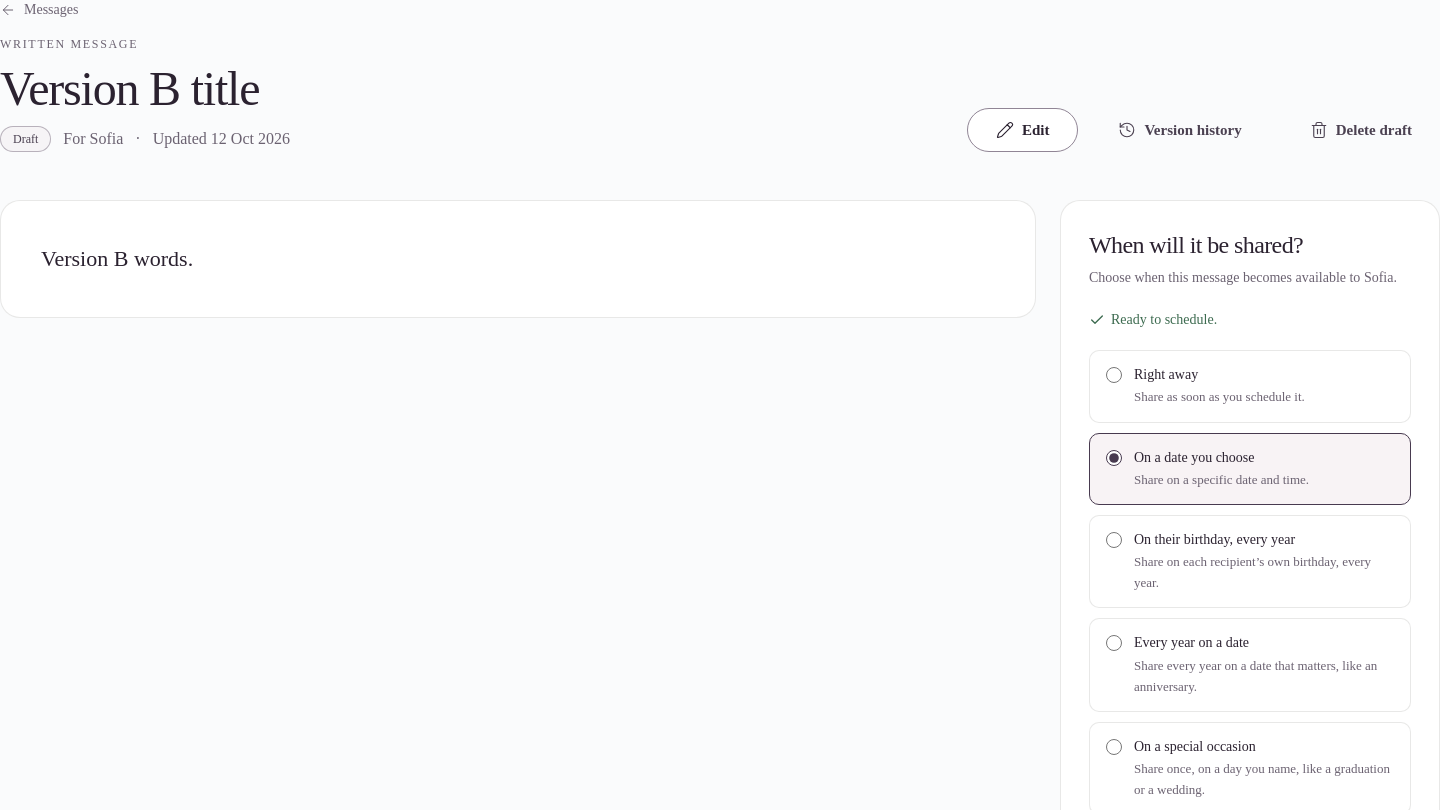
it: Version history › previews a version, restores it after confirming, and the replaced draft stays in history
This screenshot has width=1440, height=810.
Click the button "Version history".
click(1180, 130)  # box [1090,108,1270,152]
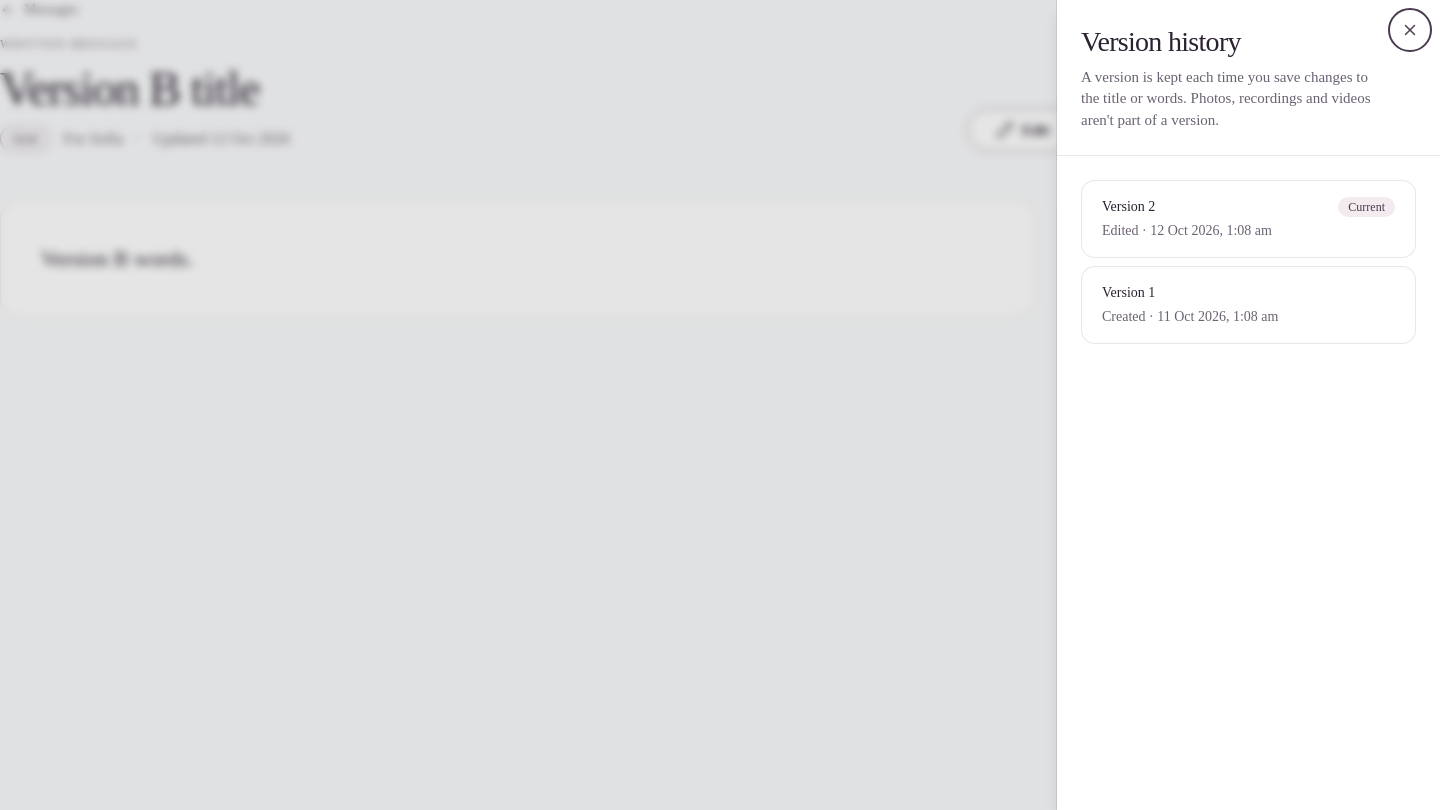
Click the button "Version 1 Created · 11 Oct 2026, 1:08 am".
click(1125, 293)  # box [1081,266,1416,344]
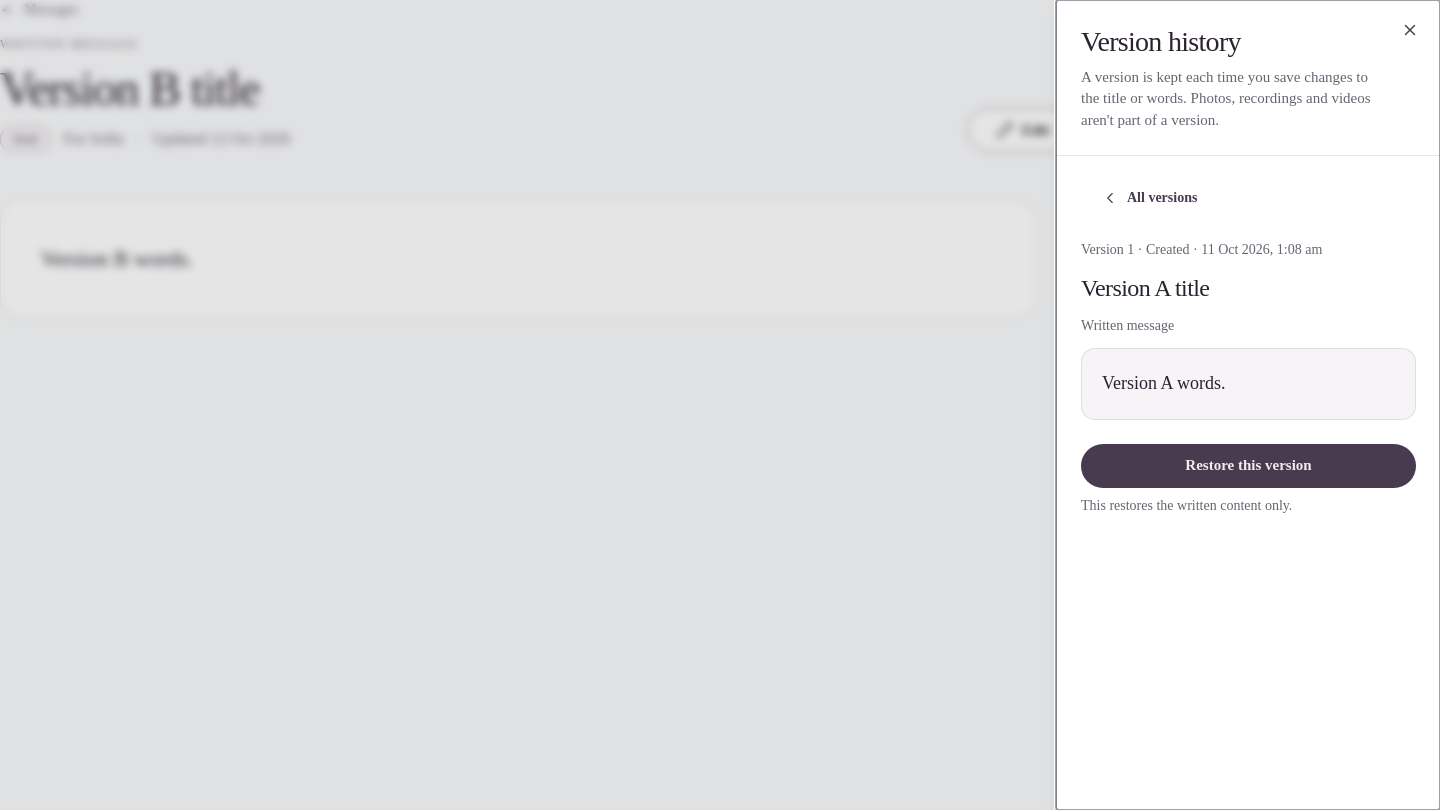
Expected: the heading "Version A title" is shown, [1081,275,1209,301]
Expected: the text "Version A words." is shown, [1102,373,1226,393]
Expected: the text "This restores the written content only." is shown, [1081,498,1292,512]
Click the button "Restore this version".
click(1248, 466)  # box [1081,444,1416,488]
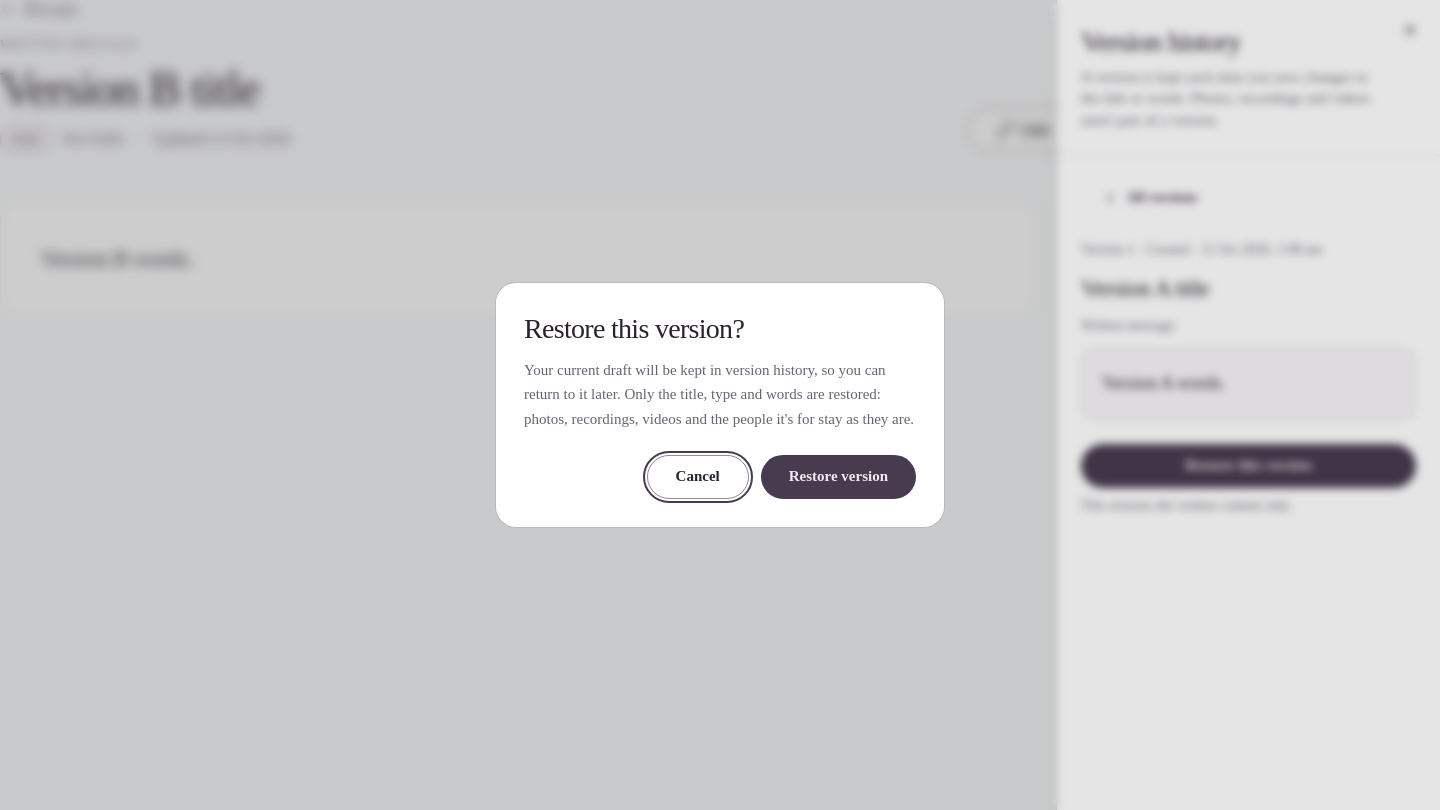
Expected: the dialog "Restore this version?" shows "Your current draft will be kept in version history", [524,362,914,427]
Click the button "Restore version".
click(838, 477)  # box [761,455,916,499]
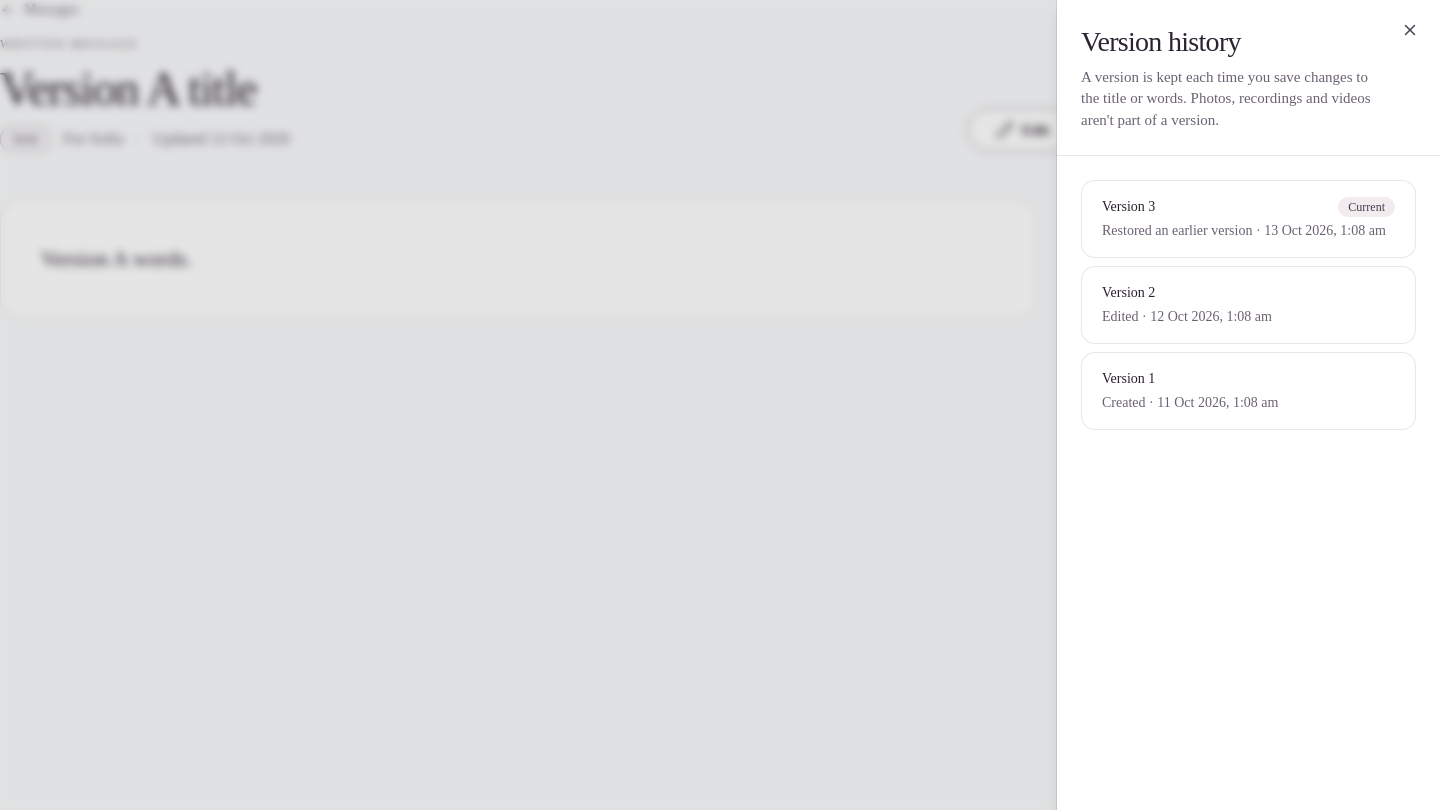
Expected: the 1st list item reads "Version 3 Current Restored an earlier version · 13 Oct 2026, 1:08 am", [1081,180,1416,258]
Expected: the list item "Version 2 Edited · 12 Oct 2026, 1:08 am" is shown, [1081,266,1416,344]
Expected: the element named "Message" reads "Version A words.", [41,246,192,271]
